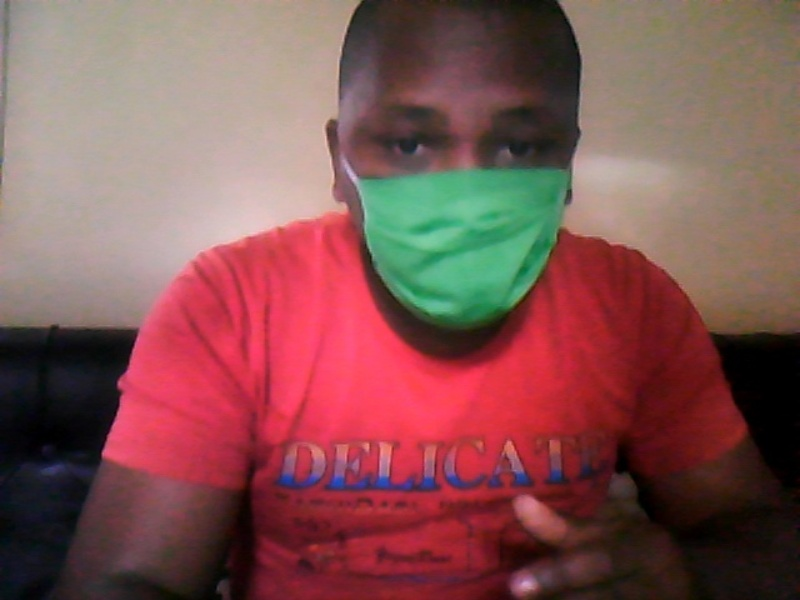ManaoArotava: (315, 7, 597, 361)
